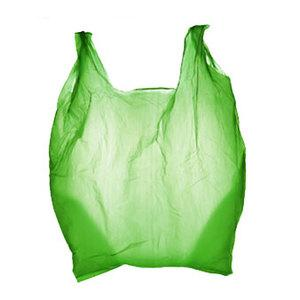LDPE: (50, 24, 247, 284)
